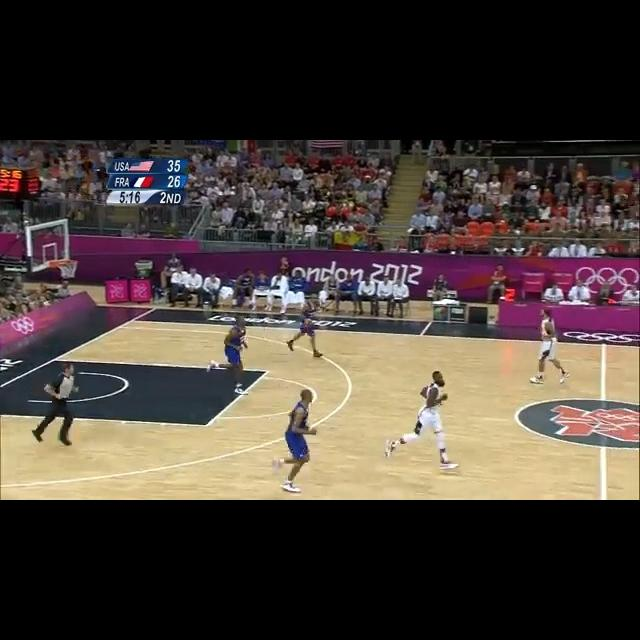basketball: (303, 318, 313, 329)
hoop: (55, 261, 79, 279)
